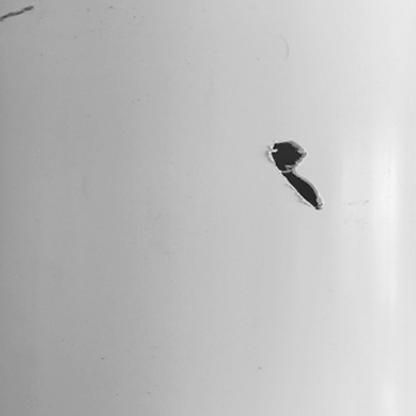fengxi: (1, 6, 36, 24)
kongdong: (266, 141, 325, 217)
